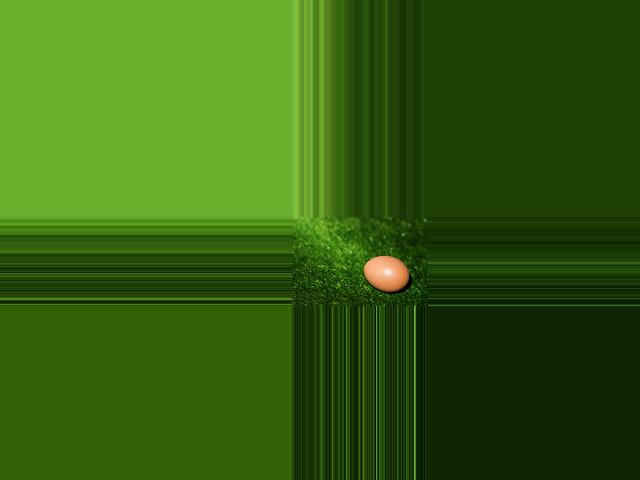egg: (362, 256, 409, 293)
